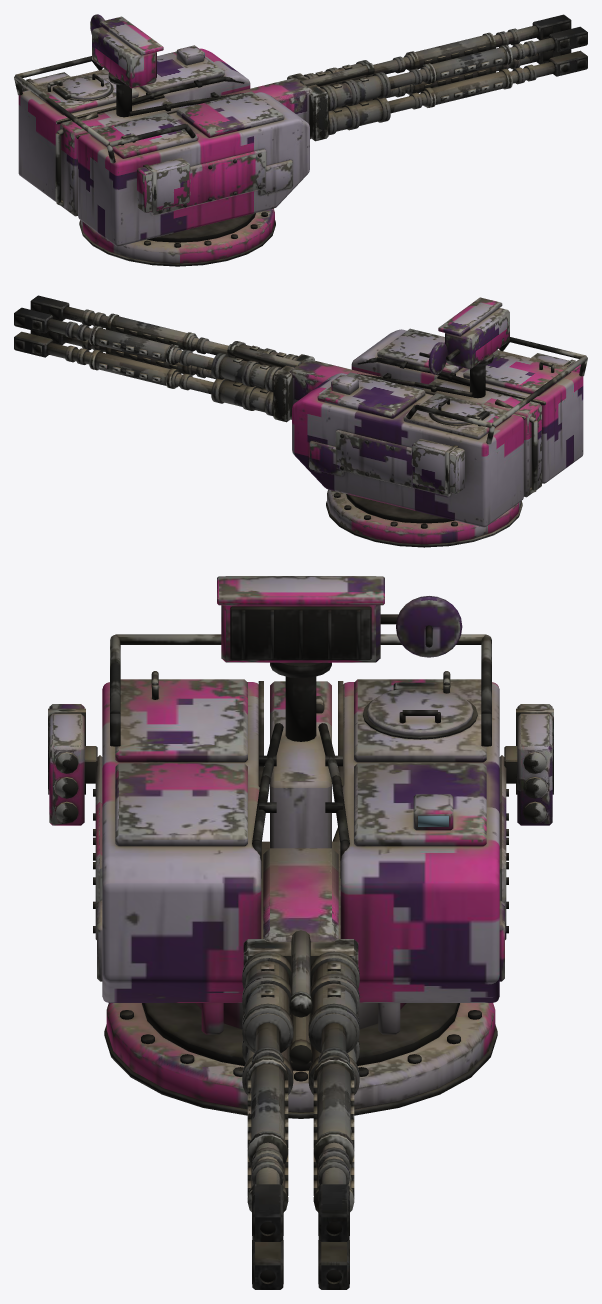
The model's file is turret_kit_quad_pixel.glb.
3 views of the same model, one above another, from view 1: azimuth 30°, elevation 25°; view 2: azimuth 150°, elevation 25°; view 3: azimuth 270°, elevation 25° (orthographic). The views are drawn at different scales.
Parts seen in each view (by area): view 1: turret_twin_quad, guns, pods; view 2: turret_twin_quad, guns, pods; view 3: turret_twin_quad, guns, pods.
Boxes of the visible parts, box(x1,y1,x2,y2) form: turret_twin_quad: box(14, 14, 309, 266); guns: box(220, 14, 587, 141); pods: box(20, 72, 190, 213); turret_twin_quad: box(292, 297, 587, 547); guns: box(14, 295, 382, 422); pods: box(411, 353, 581, 494); turret_twin_quad: box(93, 576, 508, 1118); guns: box(242, 848, 359, 1289); pods: box(48, 704, 553, 825).
Bounding box in the file's own units: 2.7 × 1.01 × 1.15.
4 materials, 3 textured.
